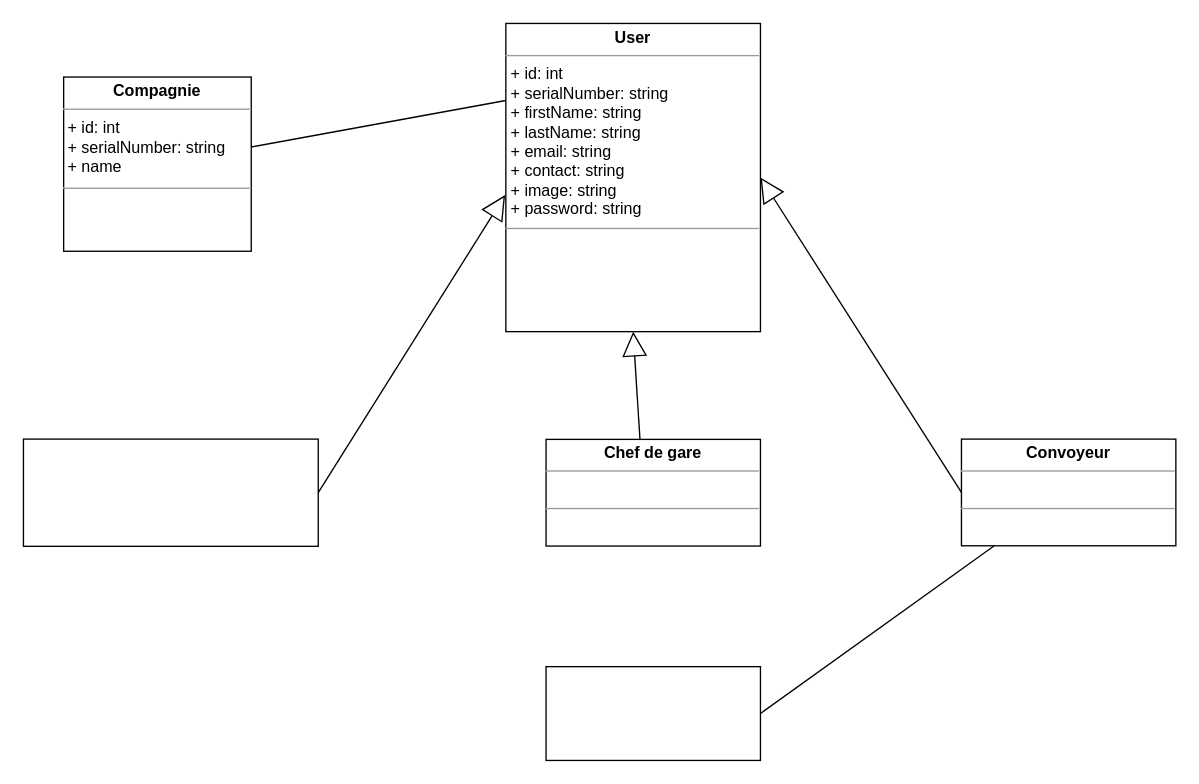
This 1199x784 diagram has some shape labels left out. The shapes that lost their labels are listed below. From the top down, each one's centre as x and y in pixels, then its label:
At [170,492]: "Administrateur".
At [652,712]: "Colis".
